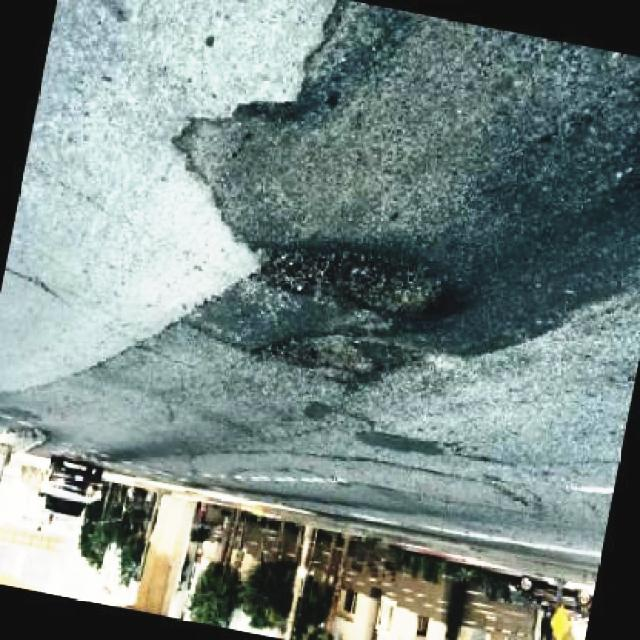pothole: (260, 242, 460, 328), (250, 331, 384, 380)
